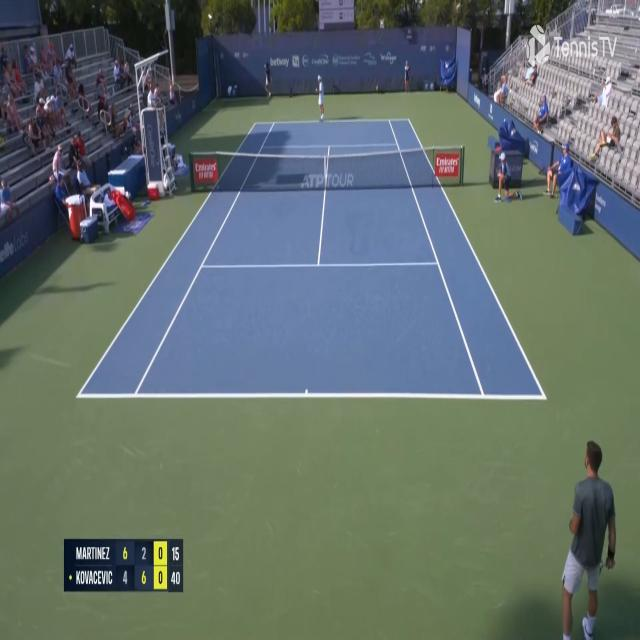tennis-player: (559, 433, 618, 640), (314, 74, 326, 122)
